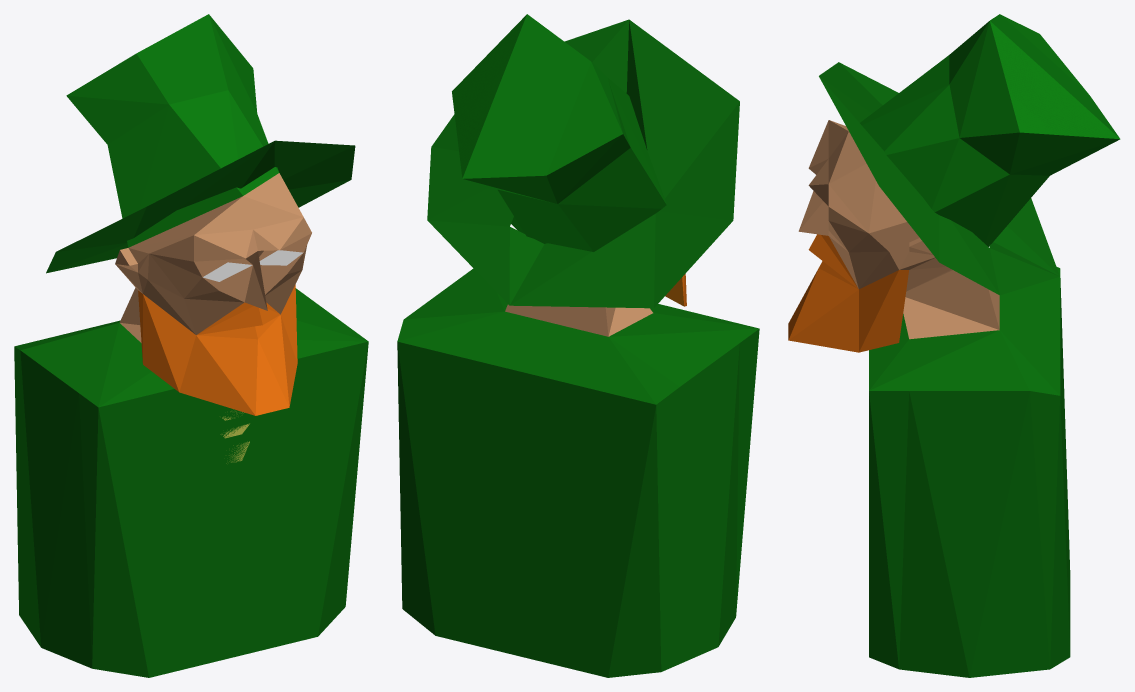
File: model_2896_npc.obj
The picture shows the model from 3 angles, left to right: view 1: azimuth 30°, elevation 25°; view 2: azimuth 150°, elevation 25°; view 3: azimuth 270°, elevation 25°; orthographic projection. The views are drawn at different scales.
Visible parts, largest first — view 1: 2896; view 2: 2896; view 3: 2896.
Boxes of the visible parts, x1=… form: 2896: x1=14, y1=14, x2=368, y2=677; 2896: x1=397, y1=14, x2=759, y2=677; 2896: x1=788, y1=14, x2=1120, y2=677.
Size of the model in its own units: 35 by 67 by 33.
